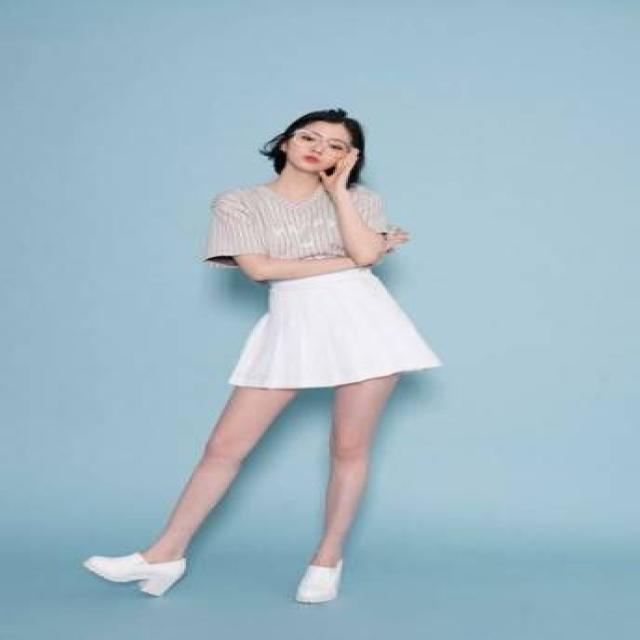adult: (110, 87, 446, 616)
